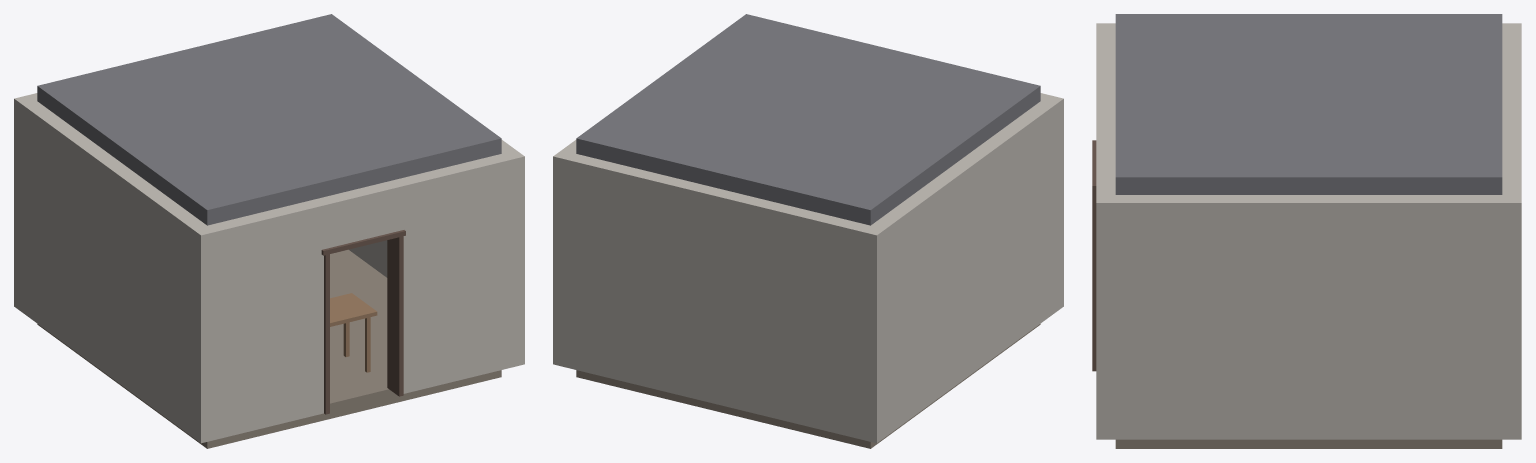
File: test_room.glb
3 views of the same model, side by side, from view 1: azimuth 30°, elevation 25°; view 2: azimuth 150°, elevation 25°; view 3: azimuth 270°, elevation 25° (orthographic). The views are drawn at different scales.
Visible parts, largest first — view 1: Ceiling, Wall_West, Wall_South_Left, Wall_South_Right, Floor, Wall_South_Header, DoorFrame_Right, Wall_North, Table, DoorFrame_Left, Wall_East, DoorFrame_Top; view 2: Wall_North, Ceiling, Wall_West, Floor, Wall_South_Left; view 3: Wall_East, Ceiling, Wall_North, Wall_South_Right, Floor, Wall_South_Left, DoorFrame_Right, Wall_South_Header.
Boxes of the visible parts, bbox=[...] form: Ceiling: bbox=[37, 14, 501, 225]; Wall_West: bbox=[22, 101, 206, 436]; Wall_South_Left: bbox=[192, 198, 326, 443]; Wall_South_Right: bbox=[391, 150, 524, 393]; Floor: bbox=[37, 249, 501, 448]; Wall_South_Header: bbox=[318, 181, 399, 248]; DoorFrame_Right: bbox=[387, 234, 403, 396]; Wall_North: bbox=[14, 93, 37, 312]; Table: bbox=[330, 293, 377, 326]; DoorFrame_Left: bbox=[324, 252, 329, 414]; Wall_East: bbox=[349, 140, 515, 277]; DoorFrame_Top: bbox=[321, 230, 405, 255]; Wall_North: bbox=[553, 150, 885, 443]; Ceiling: bbox=[576, 14, 1040, 225]; Wall_West: bbox=[871, 101, 1055, 436]; Floor: bbox=[576, 324, 1040, 448]; Wall_South_Left: bbox=[1040, 93, 1063, 312]; Wall_East: bbox=[1115, 195, 1502, 439]; Ceiling: bbox=[1115, 14, 1502, 194]; Wall_North: bbox=[1502, 23, 1521, 439]; Wall_South_Right: bbox=[1096, 133, 1115, 439]; Floor: bbox=[1115, 439, 1502, 448]; Wall_South_Left: bbox=[1096, 23, 1115, 92]; DoorFrame_Right: bbox=[1092, 191, 1096, 371]; Wall_South_Header: bbox=[1096, 92, 1115, 133].
Size of what is drawn, in the model's own units: 4.4 by 3.1 by 4.44.
